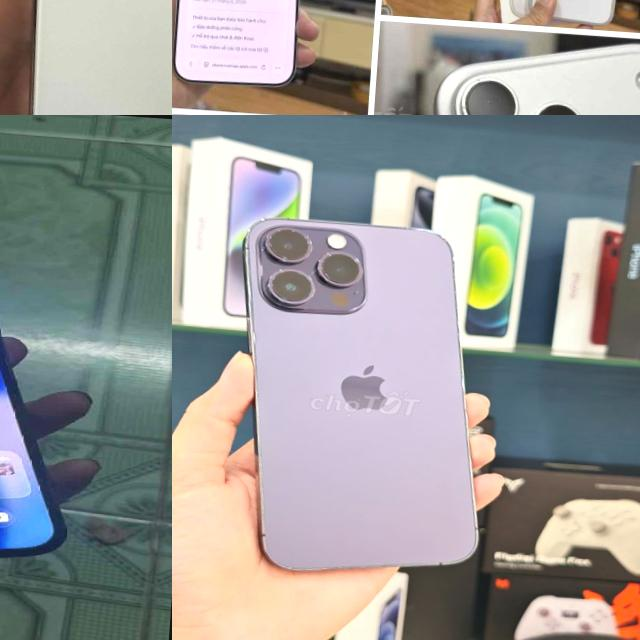gen_12_13: (0, 200, 88, 582)
gen_14: (218, 206, 506, 587), (0, 0, 172, 115)
gen_17: (418, 23, 640, 115), (172, 0, 331, 101)
